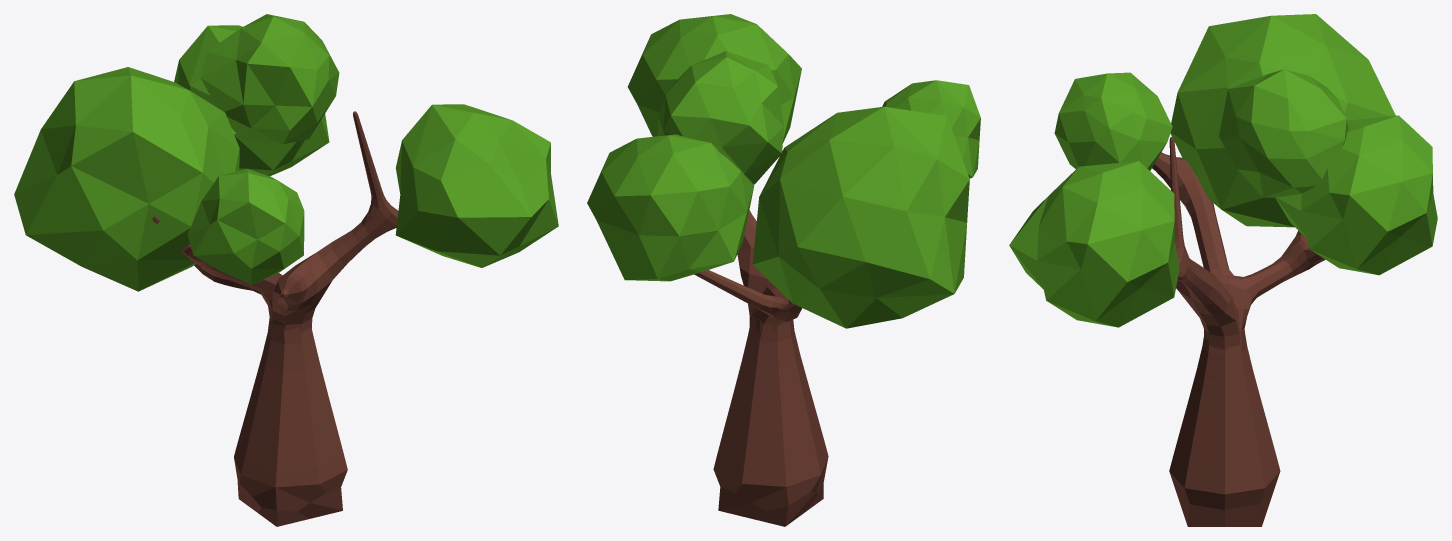
File: Tree_2.fbx
3 views of the same model, side by side, from view 1: azimuth 30°, elevation 25°; view 2: azimuth 150°, elevation 25°; view 3: azimuth 270°, elevation 25° (orthographic). The views are drawn at different scales.
Visible parts, largest first — view 1: Icosphere.001, Plane.001, Icosphere.002, Icosphere.007, Icosphere.004, Icosphere.005; view 2: Icosphere.001, Plane.001, Icosphere.005, Icosphere.007, Icosphere.002, Icosphere.004; view 3: Plane.001, Icosphere.002, Icosphere.001, Icosphere.005, Icosphere.007, Icosphere.004.
Part boxes in pixels (left/top/right/bottom): Icosphere.001: left=14, top=67, right=239, bottom=291; Plane.001: left=152, top=111, right=398, bottom=526; Icosphere.002: left=395, top=104, right=558, bottom=267; Icosphere.007: left=200, top=14, right=339, bottom=144; Icosphere.004: left=187, top=168, right=304, bottom=284; Icosphere.005: left=174, top=25, right=329, bottom=176; Icosphere.001: left=752, top=106, right=969, bottom=328; Plane.001: left=694, top=210, right=828, bottom=526; Icosphere.005: left=587, top=134, right=754, bottom=281; Icosphere.007: left=658, top=51, right=783, bottom=184; Icosphere.002: left=627, top=14, right=801, bottom=143; Icosphere.004: left=882, top=80, right=980, bottom=178; Plane.001: left=1152, top=137, right=1325, bottom=526; Icosphere.002: left=1009, top=161, right=1179, bottom=327; Icosphere.001: left=1170, top=14, right=1395, bottom=227; Icosphere.005: left=1275, top=115, right=1437, bottom=275; Icosphere.007: left=1219, top=69, right=1348, bottom=197; Icosphere.004: left=1054, top=72, right=1172, bottom=170.
Size of the model in its own units: 844 by 898 by 778.
Materials: 2 (1 with a texture image).
